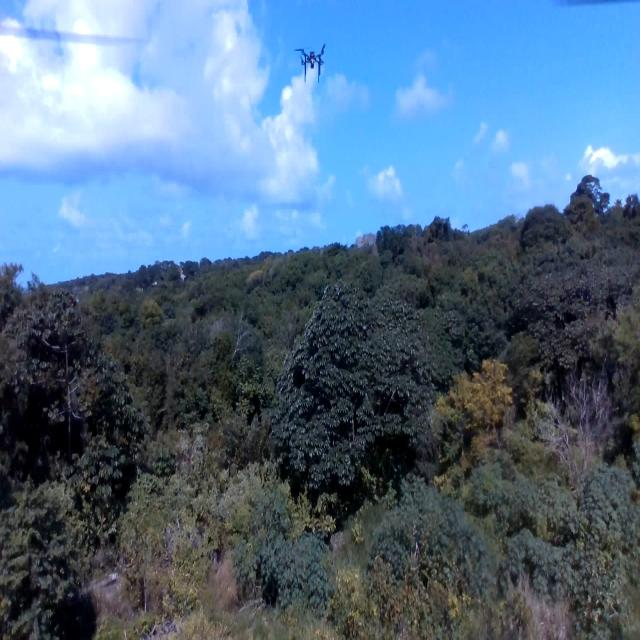-uav-: (290, 34, 330, 86)
